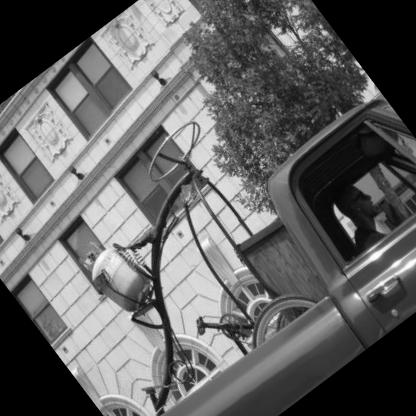truck: (47, 80, 416, 416)
